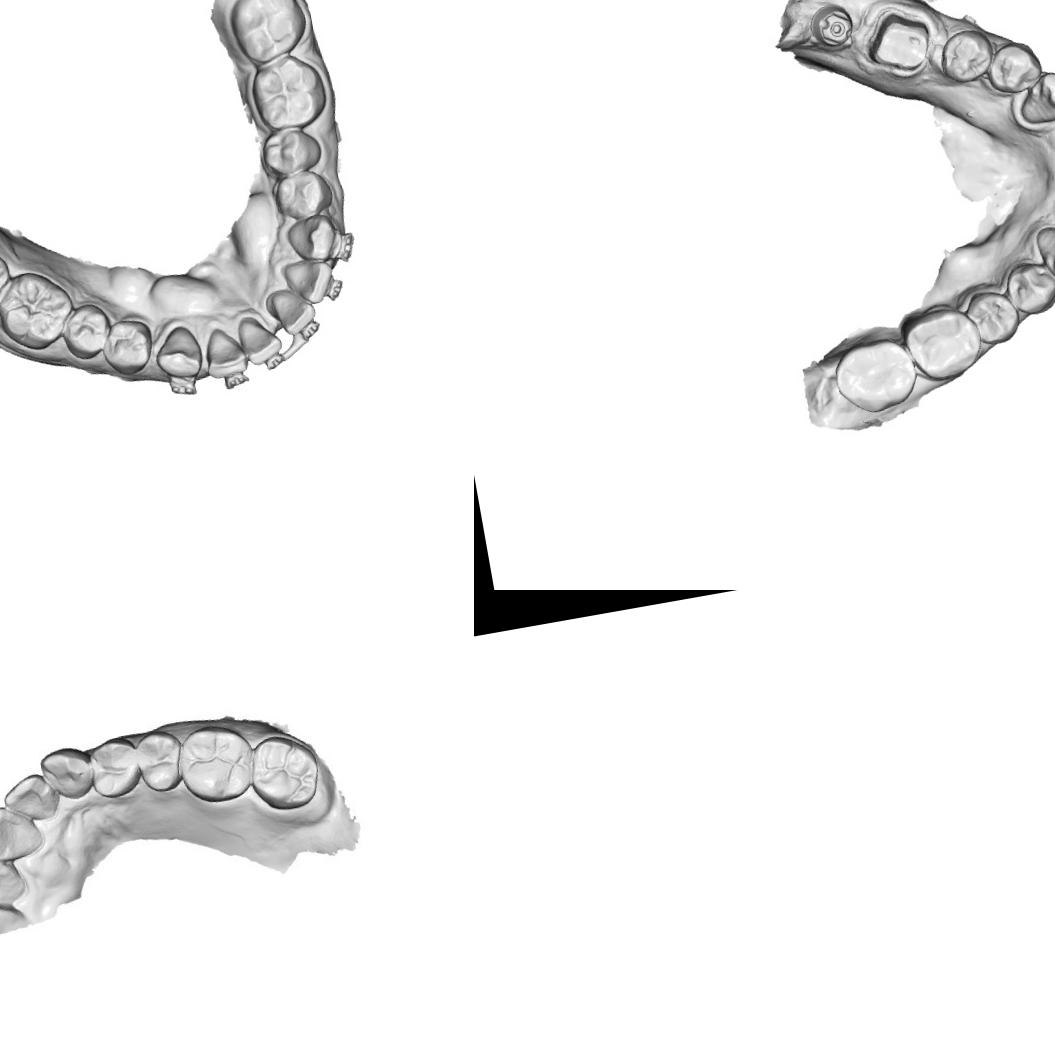canine: (37, 738, 98, 805), (280, 208, 340, 266), (150, 322, 204, 382), (1012, 65, 1055, 127), (1032, 216, 1055, 285)
implant: (804, 0, 857, 53)
incisor: (0, 766, 61, 830), (278, 254, 338, 308), (264, 282, 318, 340), (199, 324, 252, 382), (0, 798, 43, 869), (234, 312, 284, 370), (0, 849, 30, 912)
molar: (827, 332, 924, 420), (170, 718, 262, 808), (896, 302, 987, 386), (243, 48, 329, 136), (0, 263, 80, 356), (243, 728, 326, 815), (222, 0, 311, 66)
premolar: (77, 736, 150, 804), (129, 722, 194, 798), (95, 313, 160, 380), (255, 119, 325, 179), (55, 297, 116, 364), (934, 23, 998, 86), (962, 284, 1024, 348), (982, 35, 1046, 97), (268, 164, 334, 222), (1001, 255, 1055, 317)
